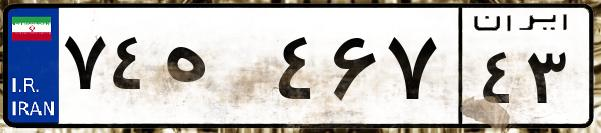3: (525, 38, 570, 115)
4: (270, 28, 330, 110), (475, 38, 525, 113), (110, 28, 158, 98)
6: (330, 28, 385, 110)
7: (385, 28, 445, 110), (57, 26, 110, 100)
ه: (158, 20, 270, 120)
